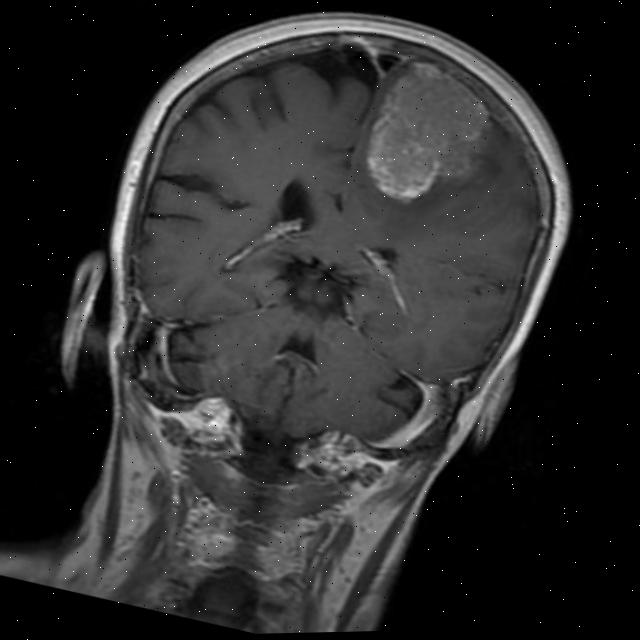Meningioma: (349, 50, 505, 219)
